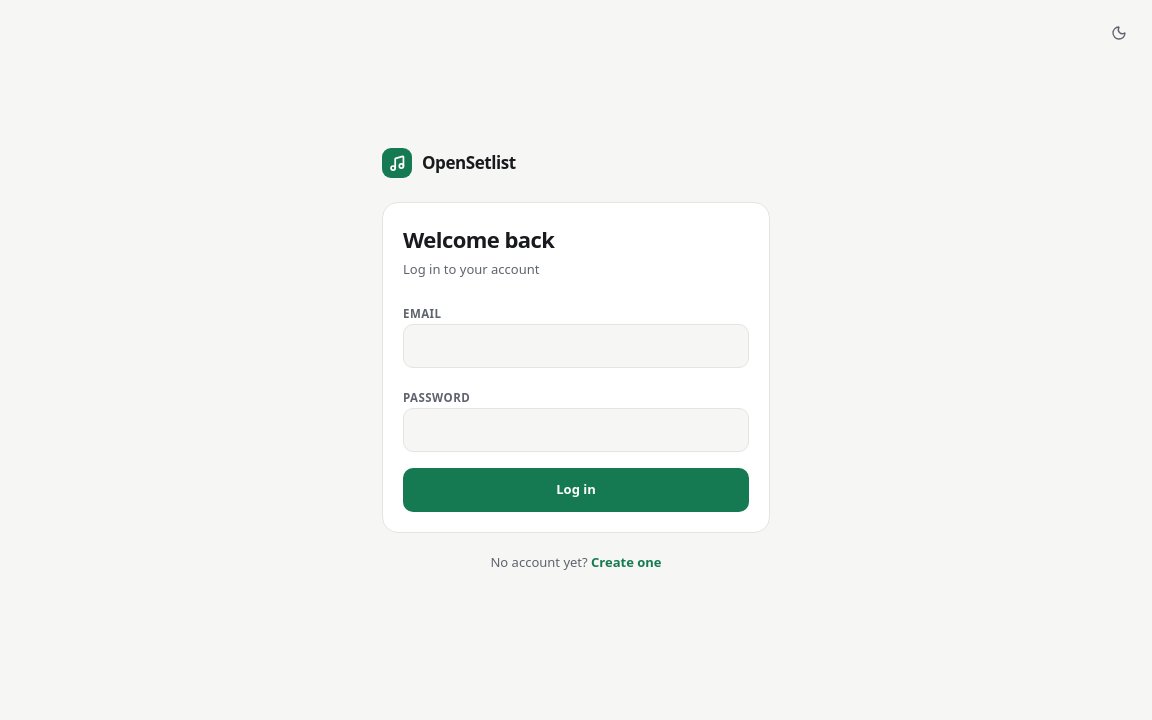
Scenario: login flow › logs in through the form and lands on the shell
Type "elod@example.com" into the field labelled "Email" at (576, 346), box [403,324,749,368]
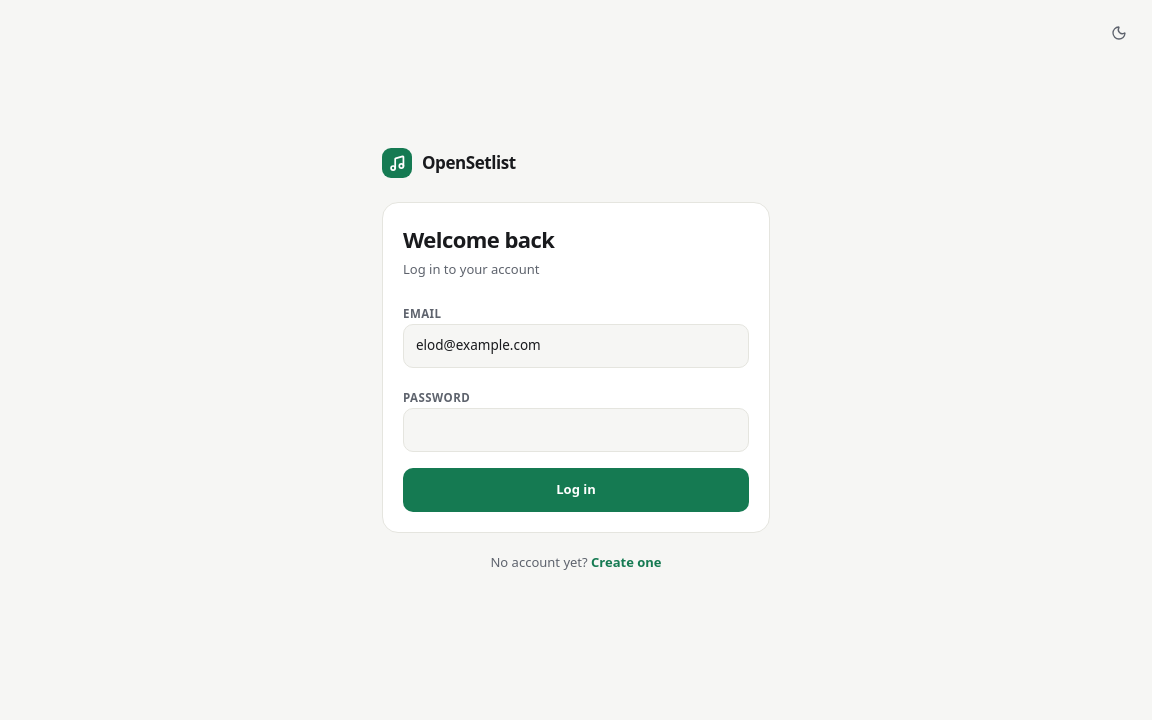
Type "hunter2hunter2" into the password field labelled "Password" at (576, 430), box [403,408,749,452]
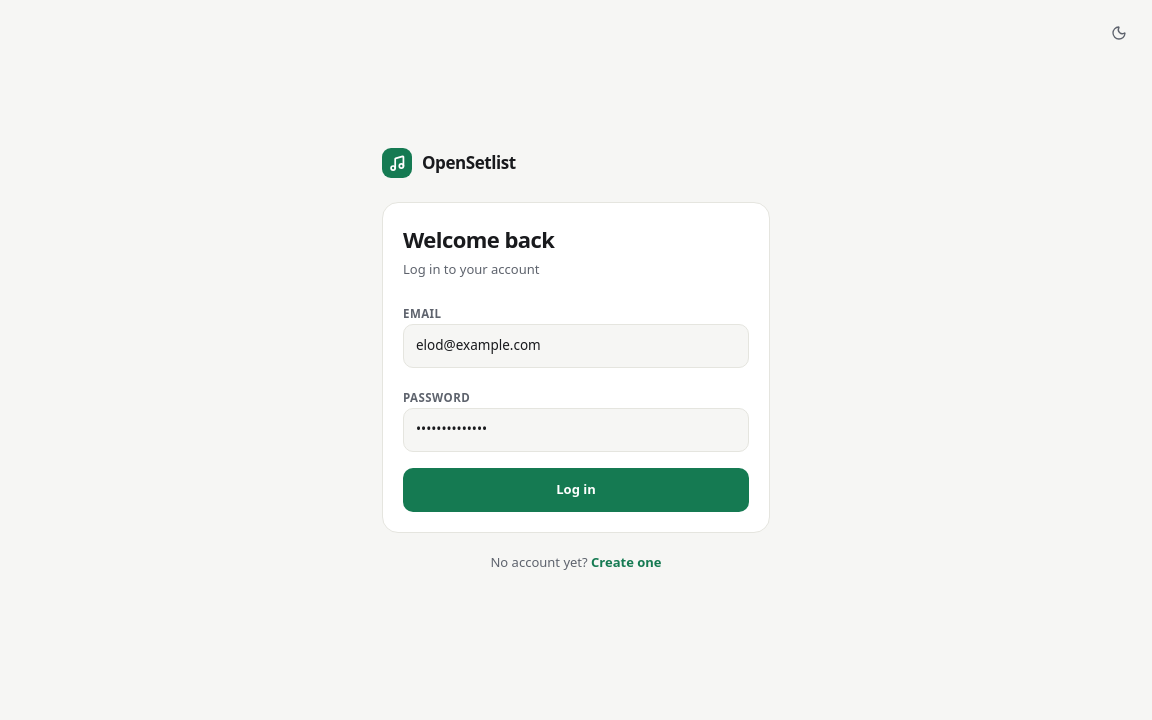
Click the button "Log in" at (576, 490), box [403,468,749,512]
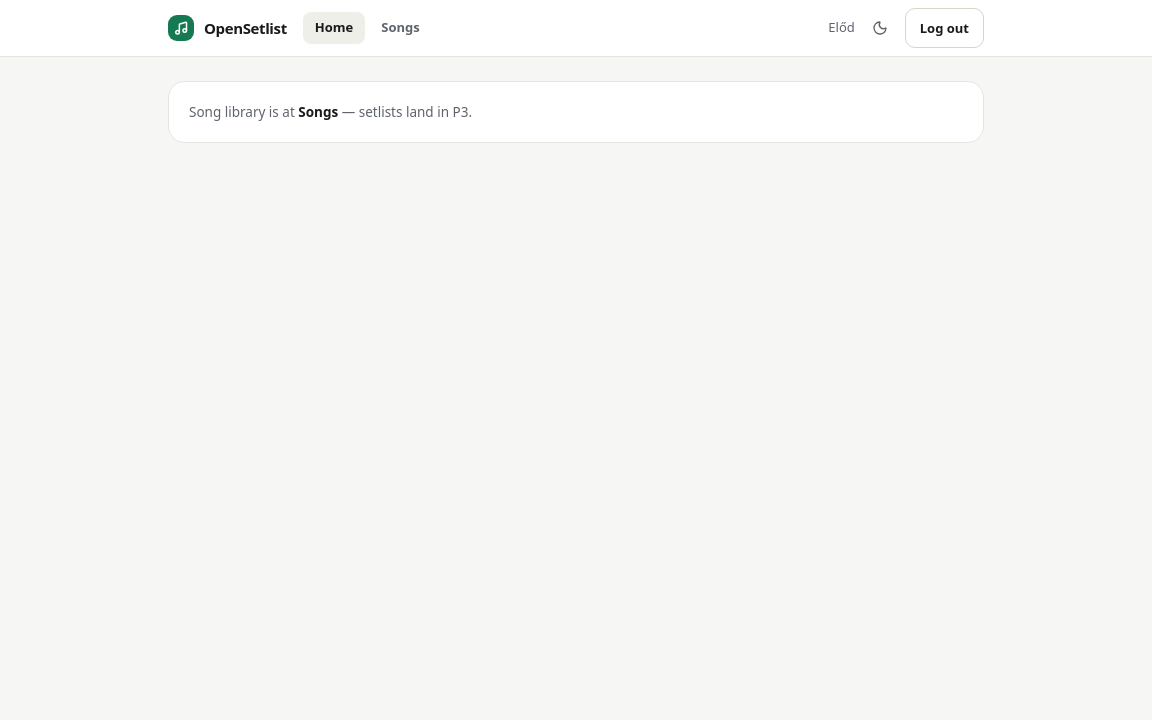
Expected: the text "Előd" is shown, [828,18,855,38]
